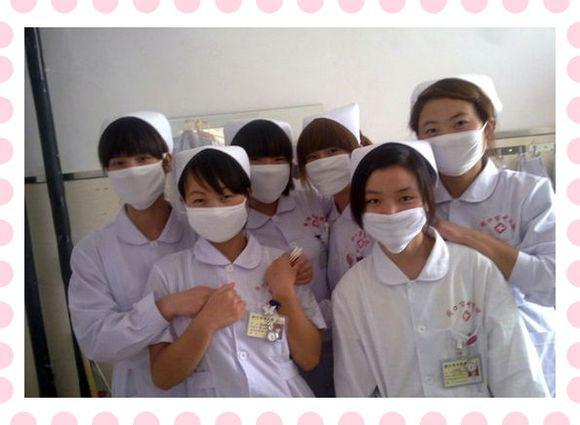OK: (102, 143, 169, 210), (363, 182, 425, 252), (417, 114, 482, 174), (188, 187, 248, 244), (303, 143, 356, 195), (240, 153, 293, 205)
